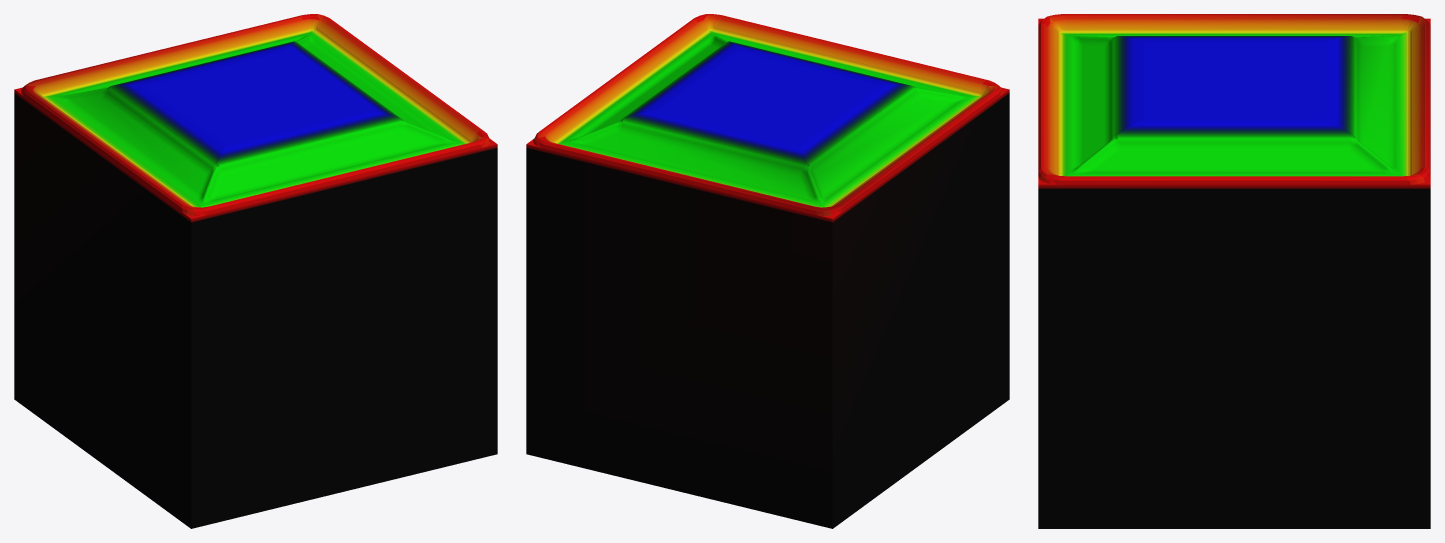
File: DemoCube.fbx
3 renders of one model, left to right at view 1: azimuth 30°, elevation 25°; view 2: azimuth 150°, elevation 25°; view 3: azimuth 270°, elevation 25°, orthographic. The views are drawn at different scales.
Parts seen in each view (by area): view 1: Cube; view 2: Cube; view 3: Cube.
Boxes of the visible parts, x1,y1,x2,y2 form: Cube: (14,14,497,528); Cube: (526,14,1009,528); Cube: (1038,14,1430,528).
Bounding box in the file's own units: 200 × 200 × 205.
